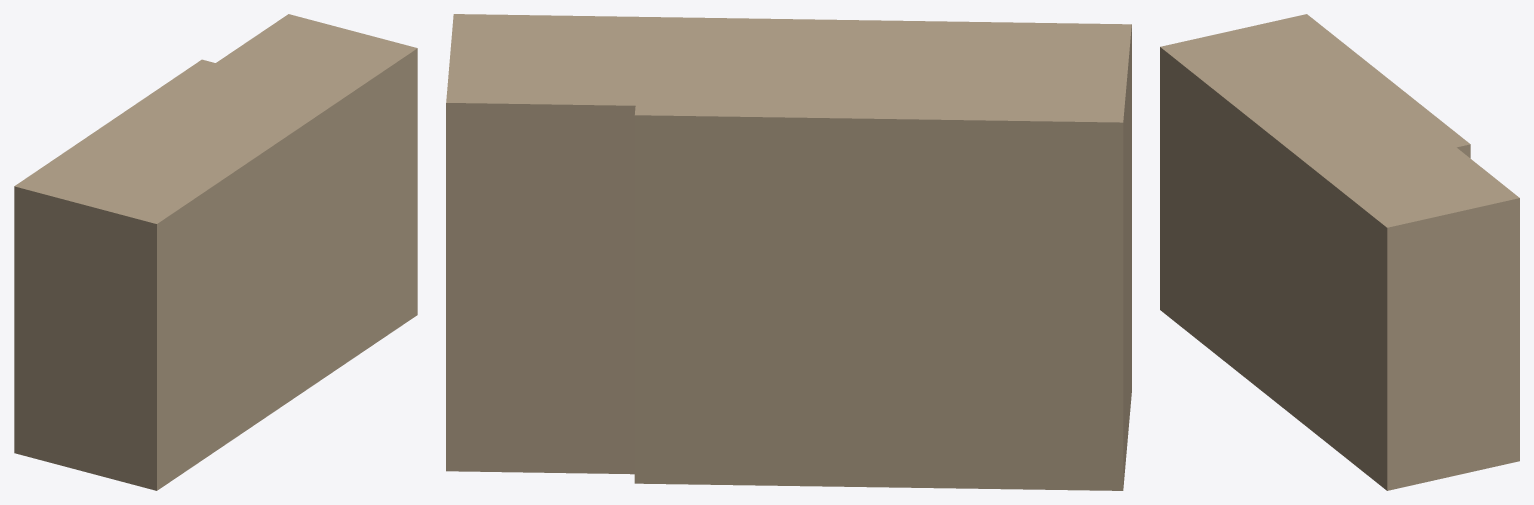
File: bld_106415136.dae
The picture shows the model from 3 angles, left to right: view 1: azimuth 30°, elevation 25°; view 2: azimuth 150°, elevation 25°; view 3: azimuth 270°, elevation 25°; orthographic projection. The views are drawn at different scales.
Visible parts, largest first — view 1: bld_106415136; view 2: bld_106415136; view 3: bld_106415136.
Part boxes in pixels (box(x1,y1,x2,y2)): bld_106415136: box(14, 14, 417, 490); bld_106415136: box(446, 14, 1131, 490); bld_106415136: box(1160, 14, 1519, 490).
Bounding box in the file's own units: 13.94 × 9.91 × 8.
